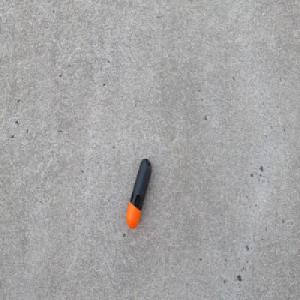PlasticPart: (125, 157, 151, 230)
